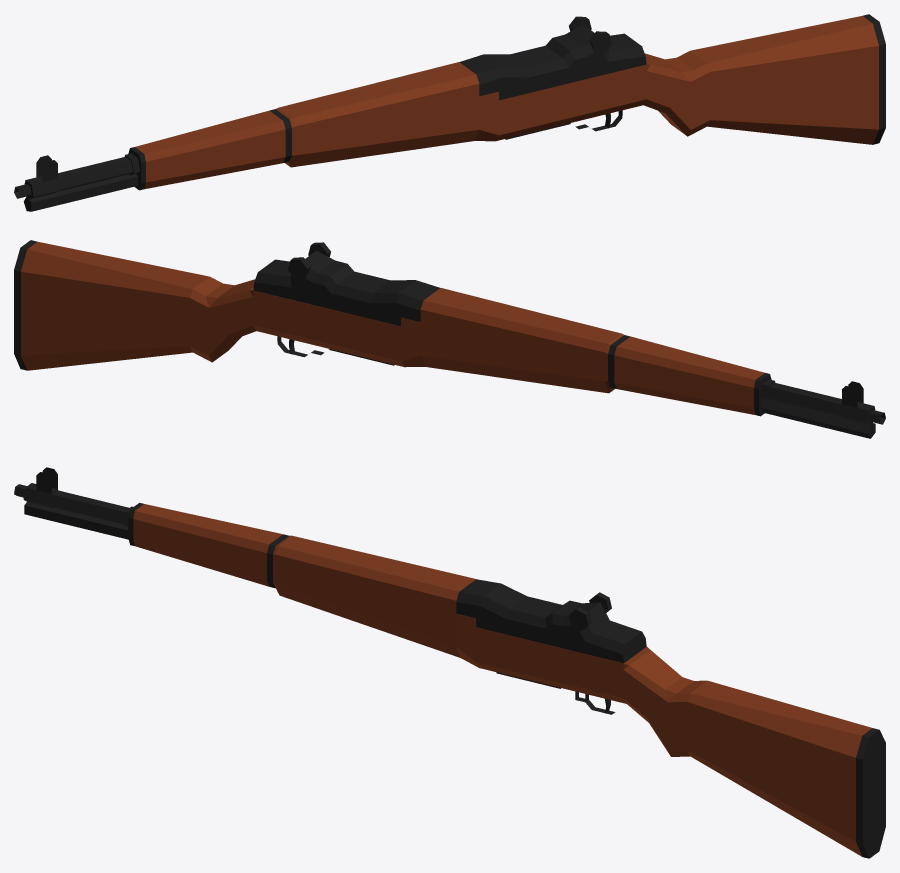
The model's file is M1 Garand 1.fbx.
3 views of the same model, one above another, from view 1: azimuth 30°, elevation 25°; view 2: azimuth 150°, elevation 25°; view 3: azimuth 330°, elevation 25° (orthographic).
Parts seen in each view (by area): view 1: Cube.002; view 2: Cube.002; view 3: Cube.002.
Part boxes in pixels (<box>): Cube.002: <box>14,14,885,211</box>; Cube.002: <box>14,240,885,438</box>; Cube.002: <box>14,467,885,858</box>.
Size of the model in its own units: 625 by 128 by 29.91.
